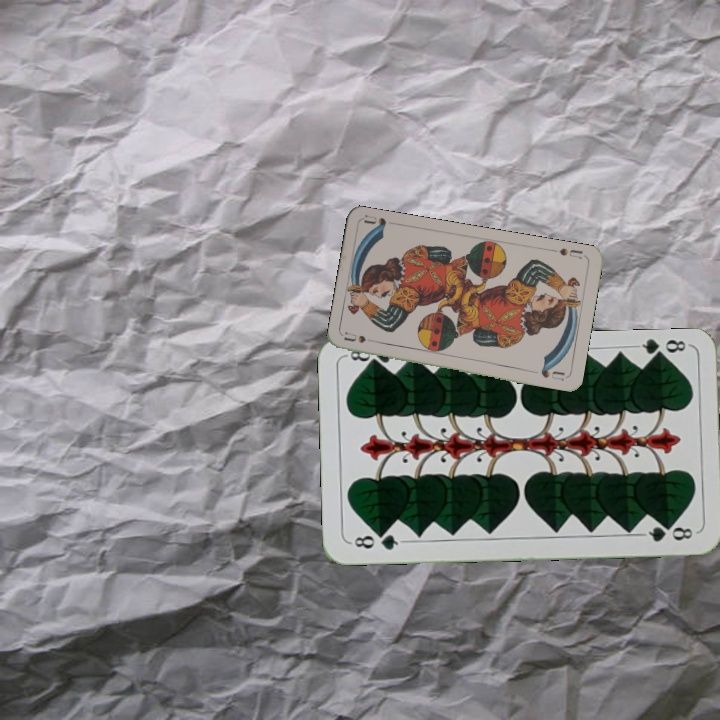G8: (632, 335, 691, 363), (347, 529, 406, 553)
SU: (341, 329, 382, 346), (547, 244, 585, 261)
